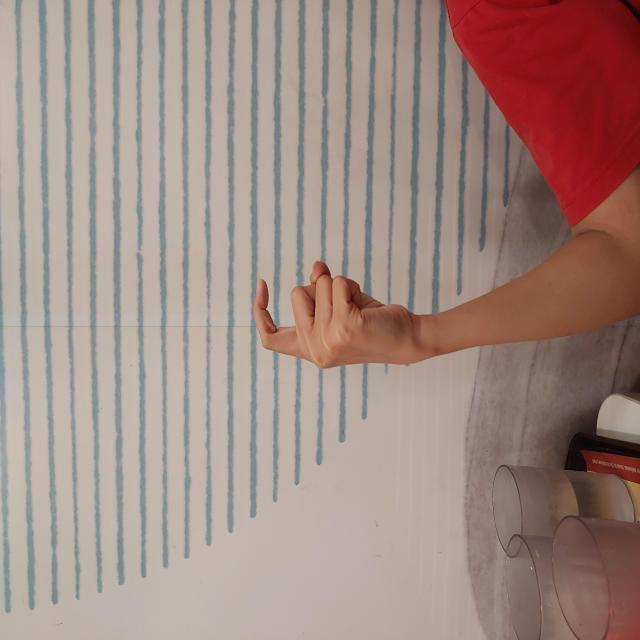X: (270, 251, 382, 420)
